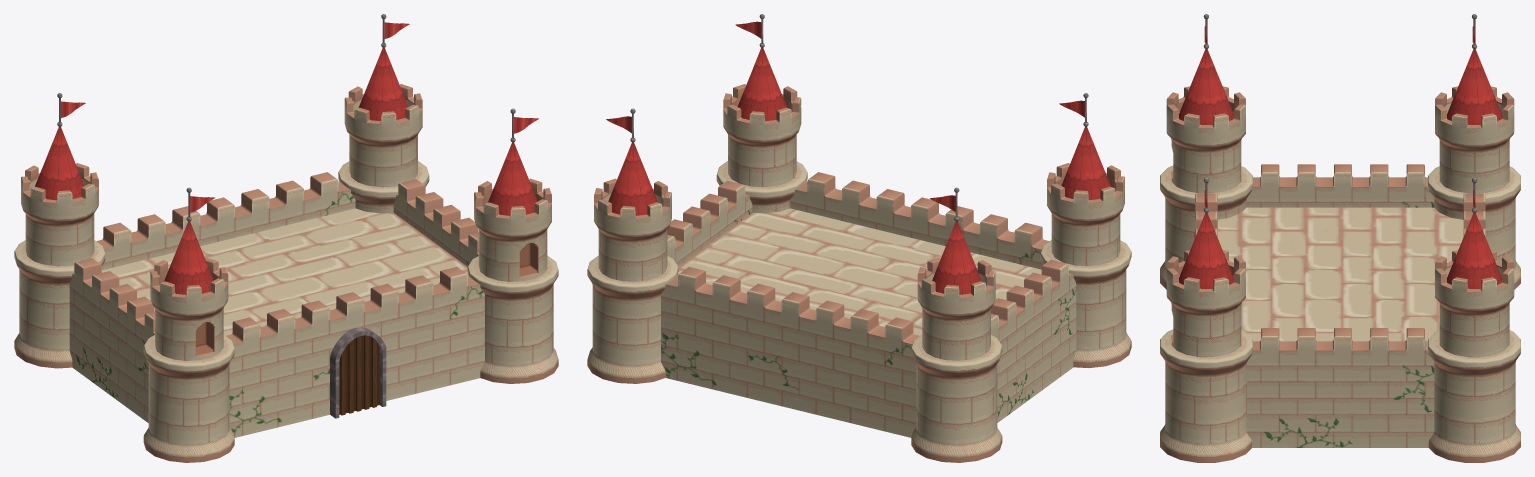
Rendered from Castle 2.fbx.
The picture shows the model from 3 angles, left to right: view 1: azimuth 30°, elevation 25°; view 2: azimuth 150°, elevation 25°; view 3: azimuth 270°, elevation 25°; orthographic projection. The views are drawn at different scales.
Parts seen in each view (by area): view 1: Castle; view 2: Castle; view 3: Castle.
Boxes of the visible parts, x1,y1,x2,y2 form: Castle: [14, 14, 558, 462]; Castle: [587, 14, 1131, 462]; Castle: [1160, 14, 1520, 462].
Bounding box in the file's own units: 4314 × 2628 × 3240.
